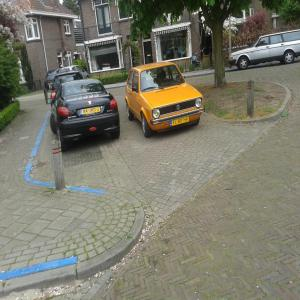Vehicle-registration-plate: (170, 116, 190, 127), (80, 106, 103, 115)
